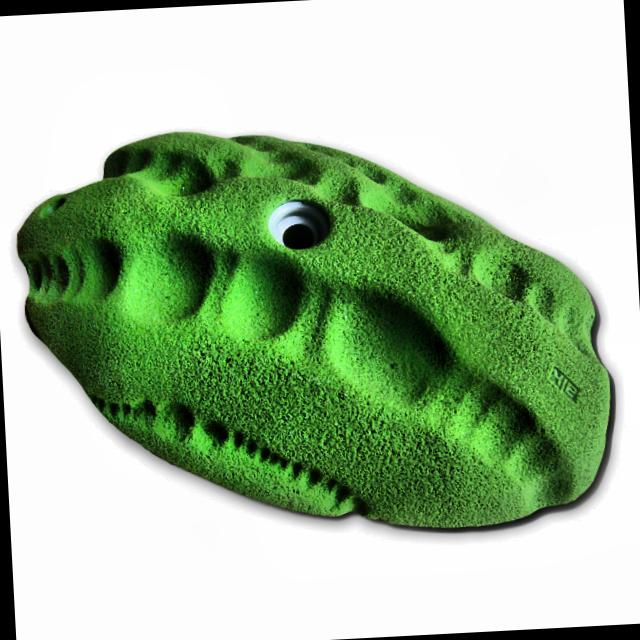Hold: (11, 101, 624, 562)
